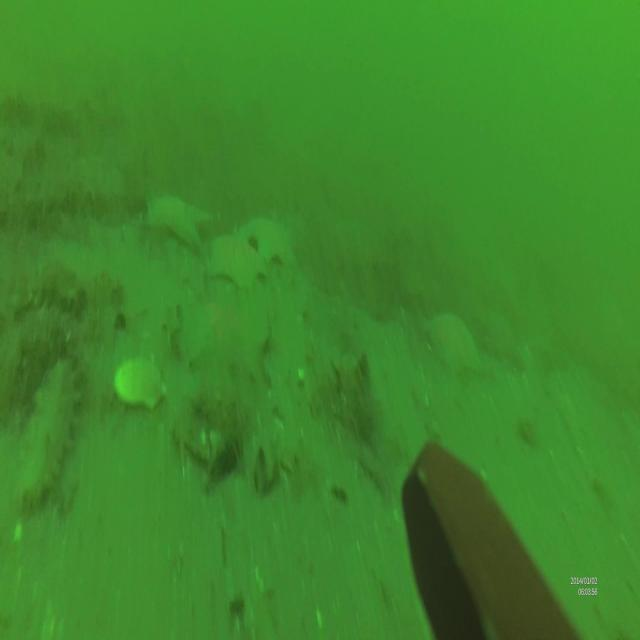holothurian: (12, 352, 84, 516)
scallop: (114, 356, 168, 409)
starfish: (144, 192, 214, 250), (426, 313, 482, 378), (204, 234, 266, 289), (237, 215, 299, 267)
